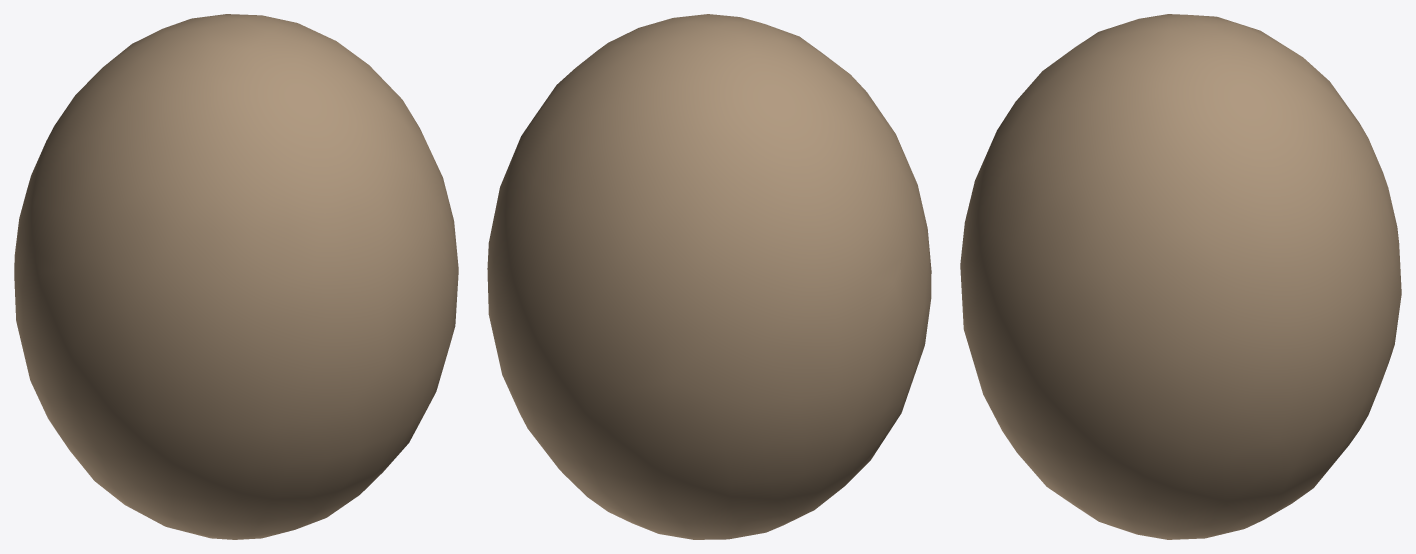
Rendered from egg_withshell.gltf.
3 views of the same model, side by side, from view 1: azimuth 30°, elevation 25°; view 2: azimuth 150°, elevation 25°; view 3: azimuth 270°, elevation 25° (orthographic).
Parts seen in each view (by area): view 1: Sphere.001; view 2: Sphere.001; view 3: Sphere.001.
Part boxes in pixels (<box>): Sphere.001: <box>14,14,458,539</box>; Sphere.001: <box>487,14,931,539</box>; Sphere.001: <box>960,14,1401,539</box>.
Size of the model in its own units: 2.05 by 2.48 by 2.02.
1 material, 1 textured.
